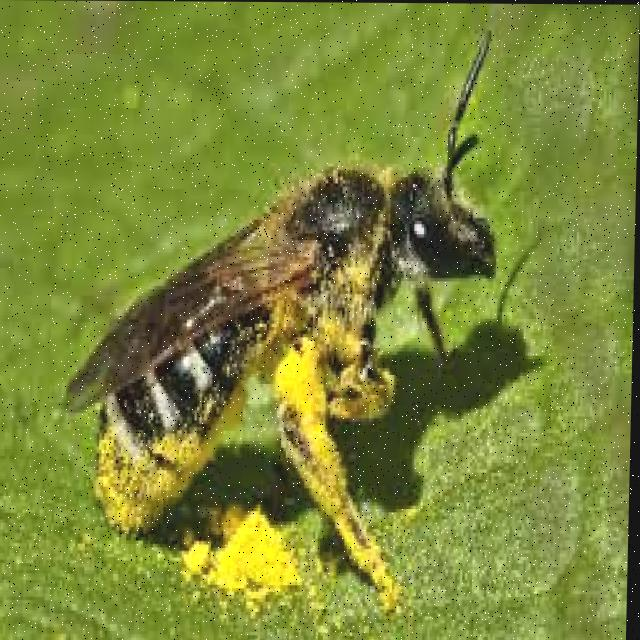Lasioglossum: (78, 20, 527, 622)
